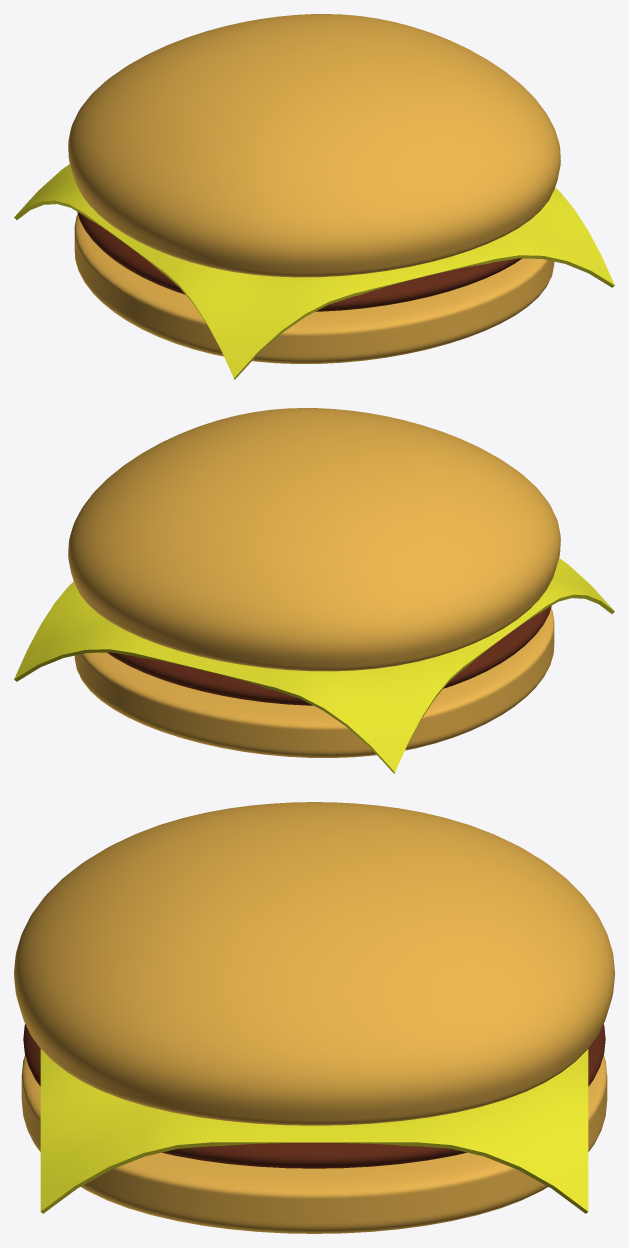
Rendered from 01-hamburger.glb.
The picture shows the model from 3 angles, top to bottom: view 1: azimuth 30°, elevation 25°; view 2: azimuth 150°, elevation 25°; view 3: azimuth 270°, elevation 25°; orthographic projection. The views are drawn at different scales.
Visible parts, largest first — view 1: Cube.002, Cube, Plane, Cube.001; view 2: Cube.002, Cube, Plane, Cube.001; view 3: Cube.002, Plane, Cube, Cube.001.
Boxes of the visible parts, x1=… form: Cube.002: x1=68, y1=14, x2=560, y2=277; Cube: x1=74, y1=214, x2=554, y2=363; Plane: x1=14, y1=164, x2=614, y2=379; Cube.001: x1=77, y1=212, x2=521, y2=311; Cube.002: x1=68, y1=408, x2=560, y2=671; Cube: x1=74, y1=608, x2=554, y2=757; Plane: x1=14, y1=558, x2=614, y2=773; Cube.001: x1=107, y1=606, x2=551, y2=705; Cube.002: x1=14, y1=802, x2=614, y2=1125; Plane: x1=40, y1=1049, x2=588, y2=1213; Cube: x1=21, y1=1055, x2=607, y2=1233; Cube.001: x1=23, y1=1024, x2=605, y2=1168.
Size of the model in its own units: 9.36 by 4.85 by 9.36.
